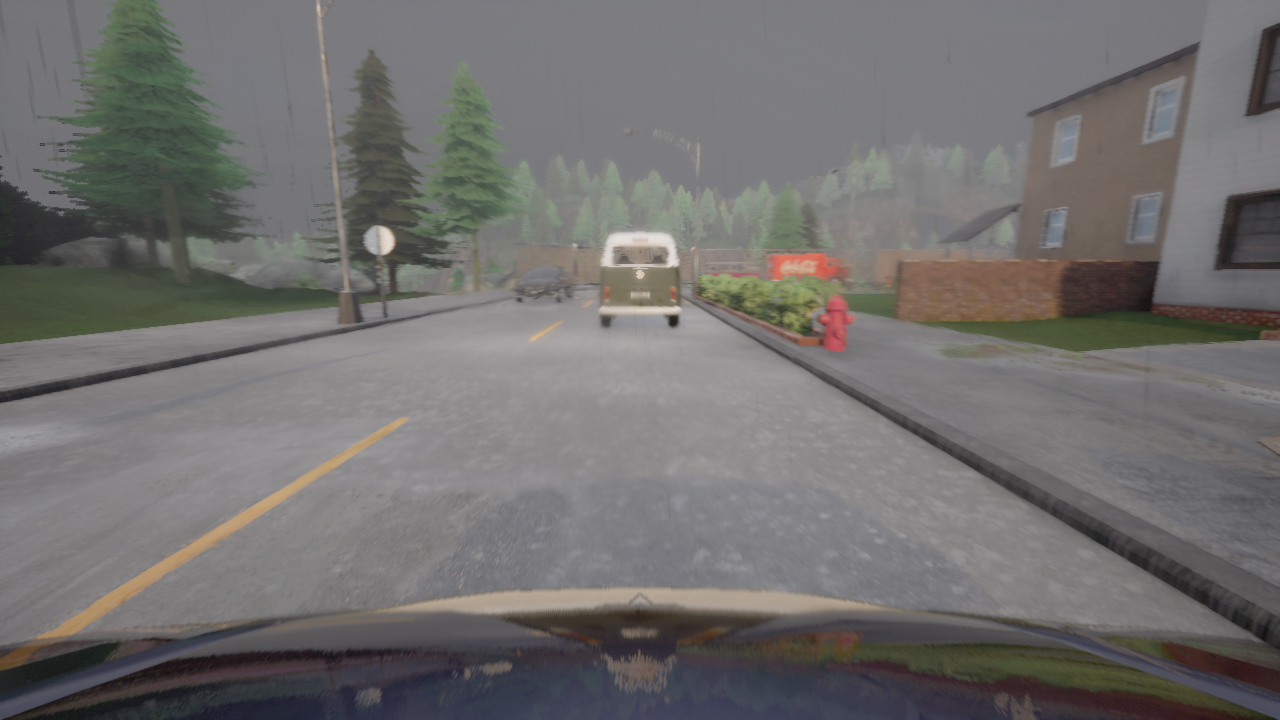cyclist: (0, 588, 1279, 719), (598, 233, 681, 327), (766, 254, 849, 284), (514, 266, 573, 303), (700, 262, 758, 280), (850, 278, 853, 282)
